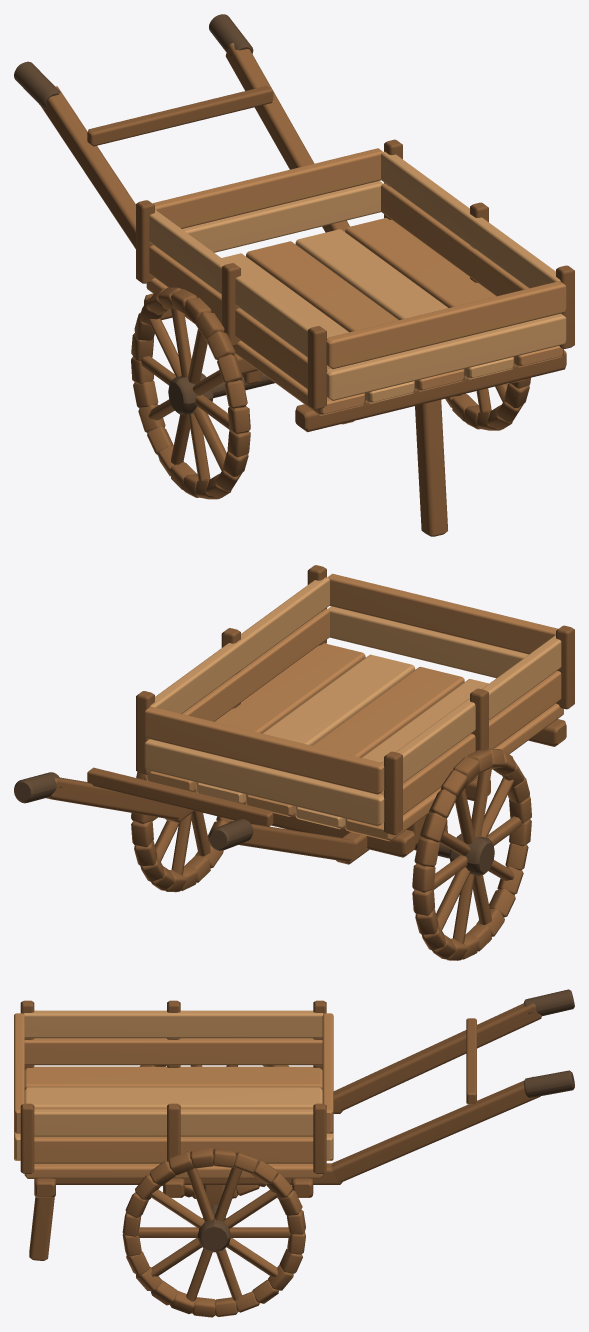
Rendered from charrette.glb.
3 views of the same model, one above another, from view 1: azimuth 30°, elevation 25°; view 2: azimuth 150°, elevation 25°; view 3: azimuth 270°, elevation 25° (orthographic). The views are drawn at different scales.
Visible parts, largest first — view 1: caisse_planche_charrette.002, caisse_planche_charrette_claire.002, caisse_bois_roue.002, roue_d_bois_roue.002, roue_g_bois_roue.002, caisse_bois_sombre.002, roue_d_bois_sombre.002; view 2: caisse_planche_charrette.002, caisse_planche_charrette_claire.002, caisse_bois_roue.002, roue_d_bois_roue.002, roue_g_bois_roue.002, caisse_bois_sombre.002, roue_d_bois_sombre.002; view 3: caisse_planche_charrette.002, caisse_planche_charrette_claire.002, caisse_bois_roue.002, roue_g_bois_roue.002, caisse_bois_sombre.002, roue_g_bois_sombre.002, roue_d_bois_roue.002.
Part boxes in pixels (box(x1,y1,x2,y2)): caisse_planche_charrette.002: box(146, 148, 566, 415); caisse_planche_charrette_claire.002: box(149, 151, 566, 403); caisse_bois_roue.002: box(41, 43, 574, 536); roue_d_bois_roue.002: box(131, 287, 250, 499); roue_g_bois_roue.002: box(445, 378, 530, 430); caisse_bois_sombre.002: box(14, 14, 274, 397); roue_d_bois_sombre.002: box(168, 373, 213, 415); caisse_planche_charrette.002: box(144, 573, 563, 841); caisse_planche_charrette_claire.002: box(144, 577, 561, 829); caisse_bois_roue.002: box(46, 565, 574, 864); roue_d_bois_roue.002: box(412, 748, 531, 960); roue_g_bois_roue.002: box(131, 772, 234, 892); caisse_bois_sombre.002: box(14, 772, 450, 858); roue_d_bois_sombre.002: box(449, 833, 494, 875); caisse_planche_charrette.002: box(14, 1013, 333, 1178); caisse_planche_charrette_claire.002: box(14, 1010, 333, 1160); caisse_bois_roue.002: box(20, 1000, 541, 1260); roue_g_bois_roue.002: box(122, 1148, 305, 1317); caisse_bois_sombre.002: box(210, 989, 574, 1212); roue_g_bois_sombre.002: box(197, 1213, 230, 1252); roue_d_bois_roue.002: box(140, 1065, 288, 1198).
Bounding box in the file's own units: 1.13 × 0.9274 × 2.07.
